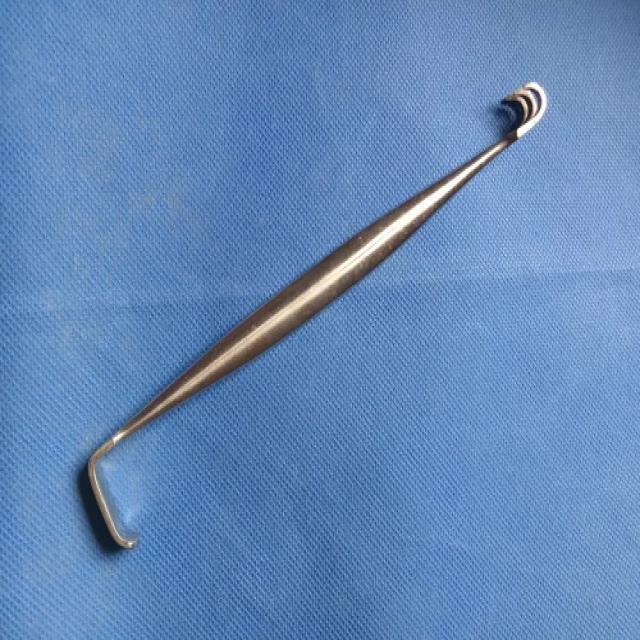Senn Retractor: (82, 76, 558, 560)
